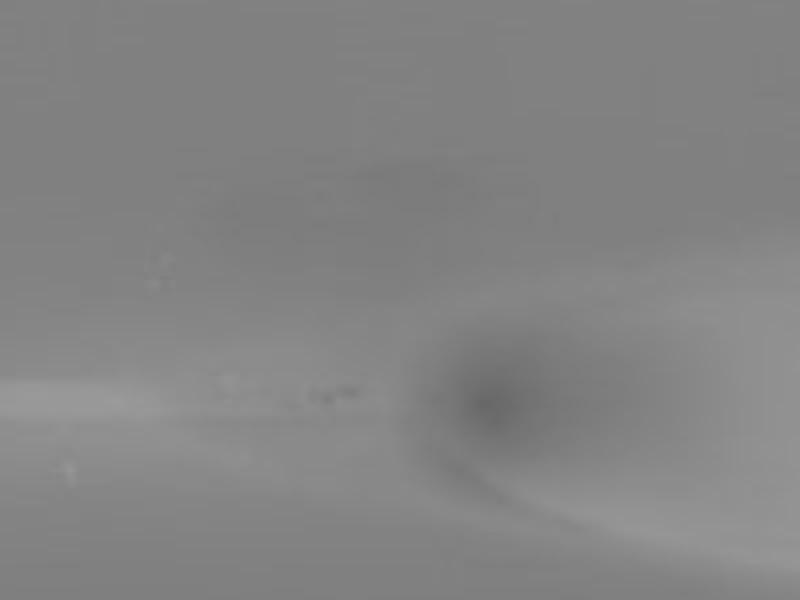defect: (434, 347, 557, 444), (340, 380, 357, 394), (318, 391, 337, 402)
